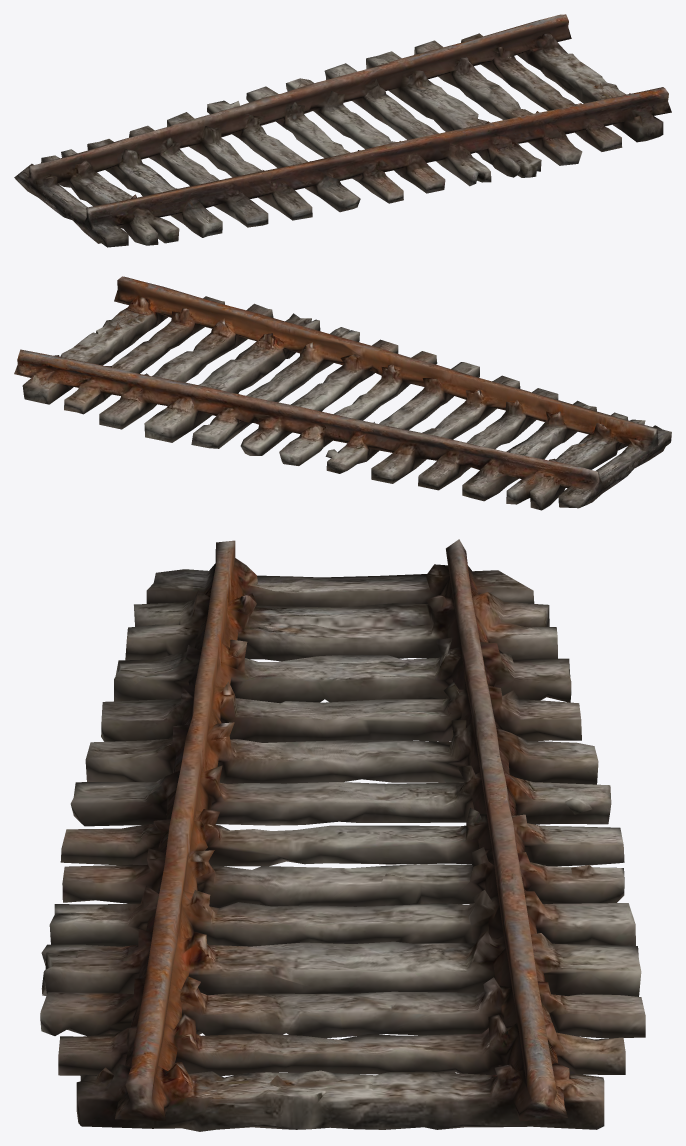
The model's file is qr_rails.glb.
The picture shows the model from 3 angles, top to bottom: view 1: azimuth 30°, elevation 25°; view 2: azimuth 150°, elevation 25°; view 3: azimuth 270°, elevation 25°; orthographic projection. The views are drawn at different scales.
Parts seen in each view (by area): view 1: tripo_node_fbe6be00-9b91-4e57-b8f0-18bf4668ee93; view 2: tripo_node_fbe6be00-9b91-4e57-b8f0-18bf4668ee93; view 3: tripo_node_fbe6be00-9b91-4e57-b8f0-18bf4668ee93.
Boxes of the visible parts, x1,y1,x2,y2 form: tripo_node_fbe6be00-9b91-4e57-b8f0-18bf4668ee93: [14, 14, 671, 247]; tripo_node_fbe6be00-9b91-4e57-b8f0-18bf4668ee93: [14, 276, 671, 510]; tripo_node_fbe6be00-9b91-4e57-b8f0-18bf4668ee93: [40, 539, 645, 1131].
Size of the model in its own units: 1 by 0.0597 by 0.471.
Materials: 1 (1 with a texture image).
